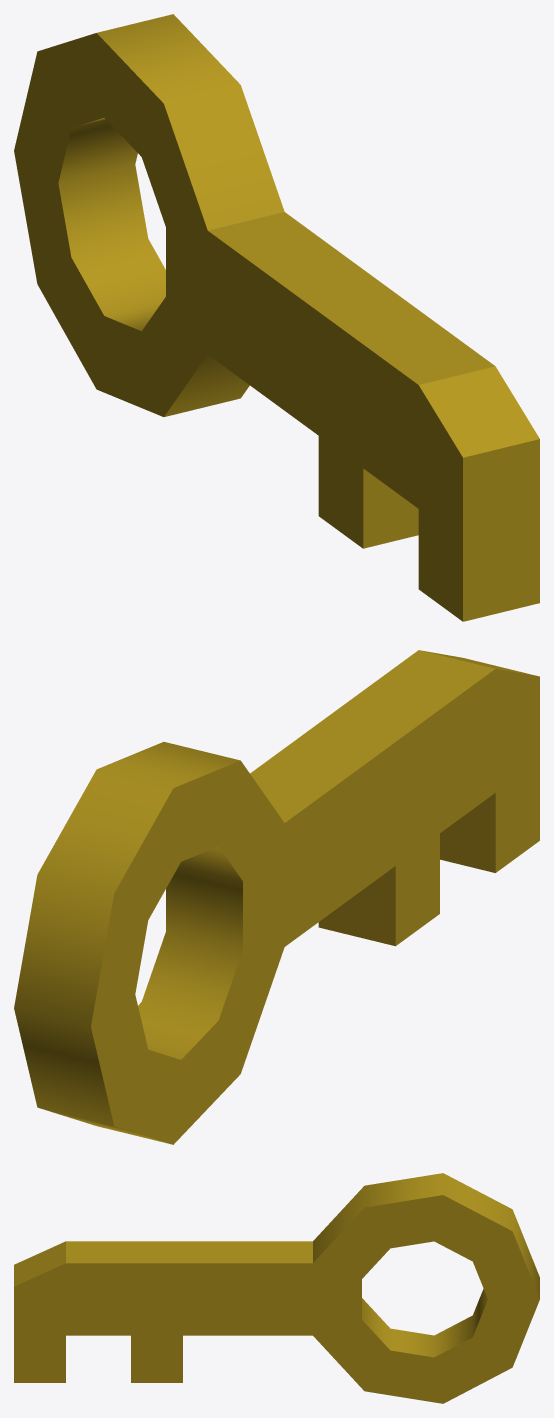
File: gateKey.FBX
3 renders of one model, top to bottom at view 1: azimuth 30°, elevation 25°; view 2: azimuth 150°, elevation 25°; view 3: azimuth 270°, elevation 25°, orthographic. The views are drawn at different scales.
Parts seen in each view (by area): view 1: Gate Key; view 2: Gate Key; view 3: Gate Key.
Part boxes in pixels (left/top/right/bottom): Gate Key: left=14, top=14, right=539, bottom=621; Gate Key: left=14, top=650, right=539, bottom=1144; Gate Key: left=14, top=1173, right=539, bottom=1403.
Bounding box in the file's own units: 0.8 × 3.55 × 8.09.
